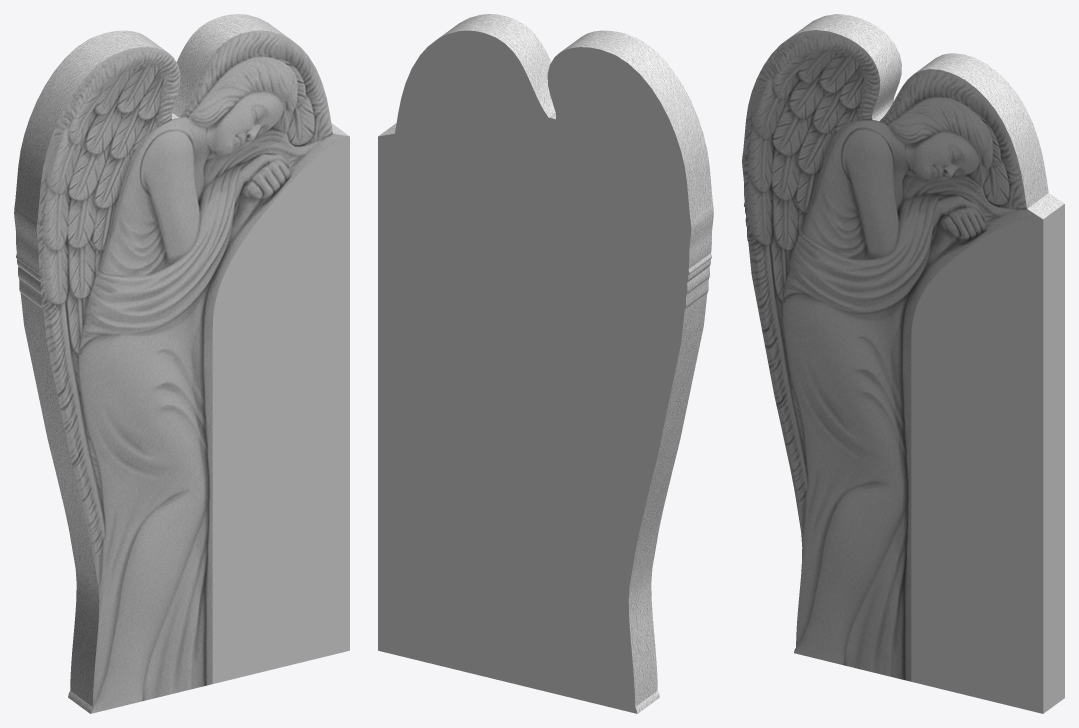
The model's file is cna76c983c20_tkf.glb.
The picture shows the model from 3 angles, left to right: view 1: azimuth 30°, elevation 25°; view 2: azimuth 150°, elevation 25°; view 3: azimuth 330°, elevation 25°; orthographic projection. The views are drawn at different scales.
Visible parts, largest first — view 1: Pam-d01-003_2_notexture, Pam-d01-003; view 2: Pam-d01-003, Pam-d01-003_2_notexture; view 3: Pam-d01-003_2_notexture, Pam-d01-003.
Boxes of the visible parts, bbox=[...] form: Pam-d01-003_2_notexture: bbox=[14, 14, 349, 713]; Pam-d01-003: bbox=[212, 136, 349, 683]; Pam-d01-003: bbox=[378, 30, 691, 713]; Pam-d01-003_2_notexture: bbox=[378, 14, 713, 713]; Pam-d01-003_2_notexture: bbox=[742, 14, 1064, 681]; Pam-d01-003: bbox=[911, 204, 1064, 713].
Bounding box in the file's own units: 0.4 × 0.8 × 0.05.
Materials: 1 (1 with a texture image).
